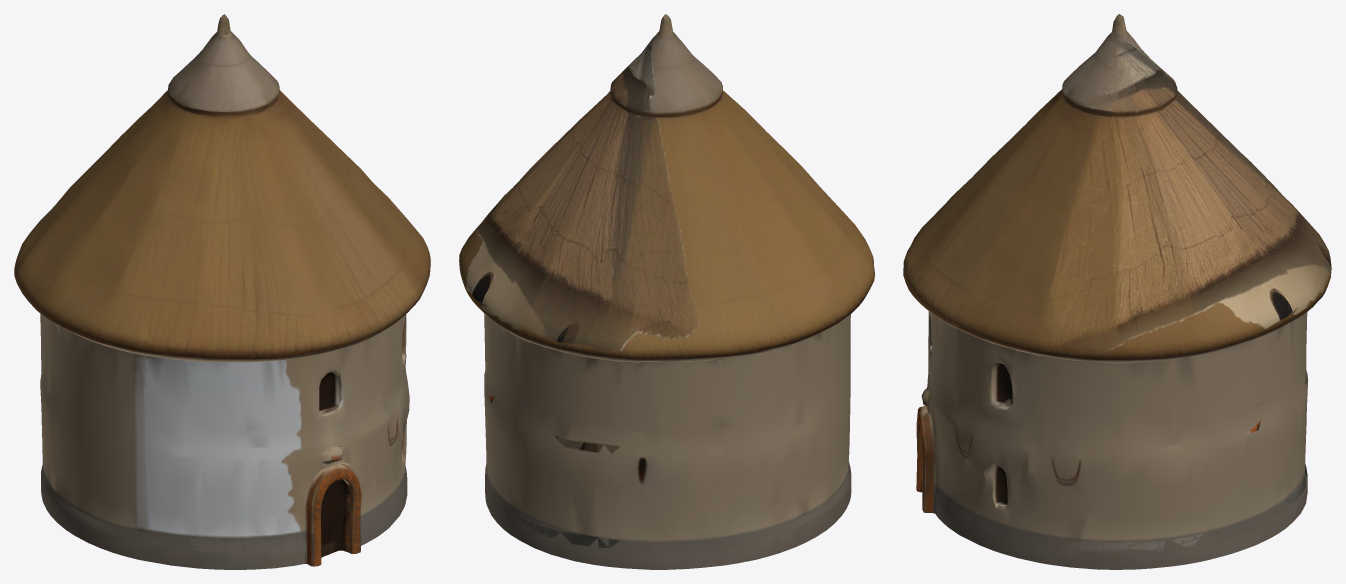
Rendered from etiopia_iglesia.glb.
3 views of the same model, side by side, from view 1: azimuth 30°, elevation 25°; view 2: azimuth 150°, elevation 25°; view 3: azimuth 270°, elevation 25° (orthographic).
Visible parts, largest first — view 1: geometry_0; view 2: geometry_0; view 3: geometry_0.
Part boxes in pixels (x1,y1,x2,y2): geometry_0: (14,14,430,569); geometry_0: (459,14,874,569); geometry_0: (903,14,1331,569).
Bounding box in the file's own units: 3.33 × 4.2 × 3.4.
Materials: 1 (1 with a texture image).
